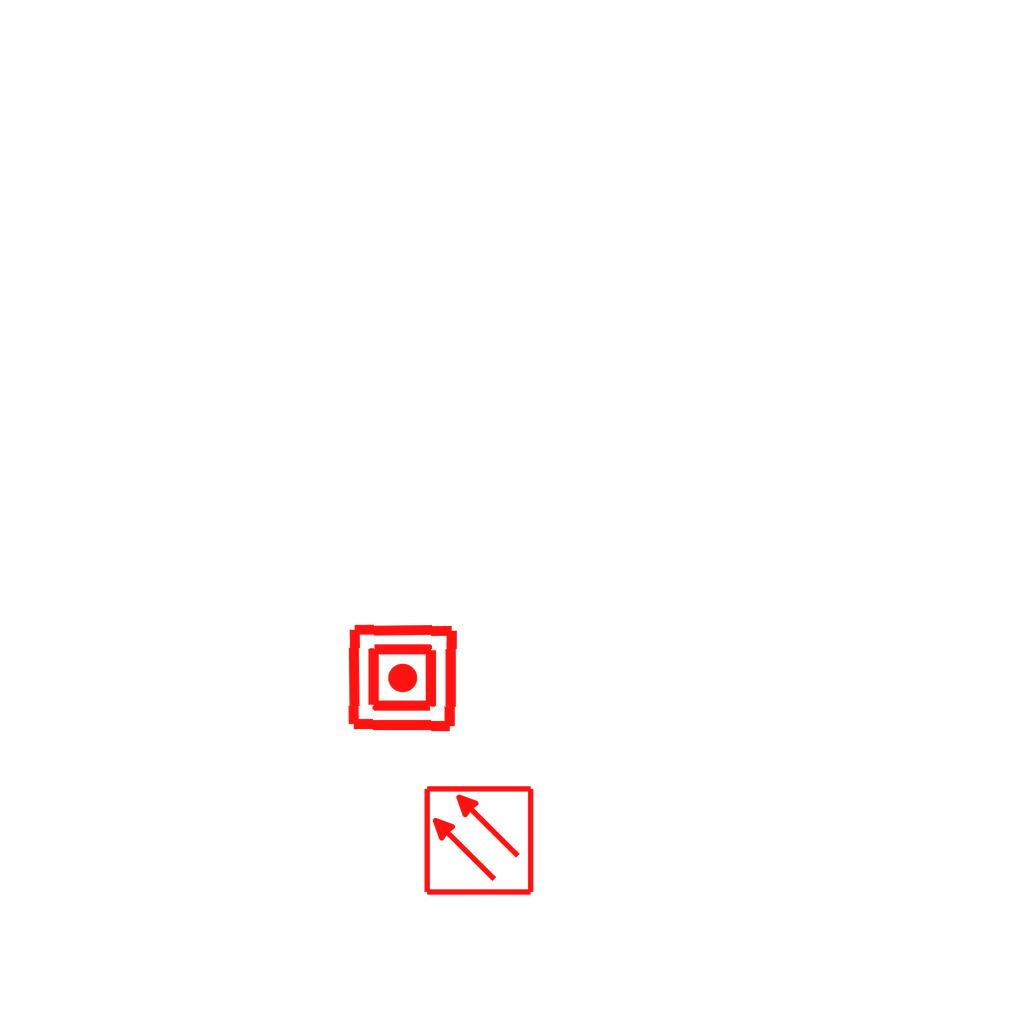NAM-Nichtautomatischer_Melder: (345, 620, 460, 735)
RMO_Rauchmelder_optischer: (422, 784, 535, 897)
